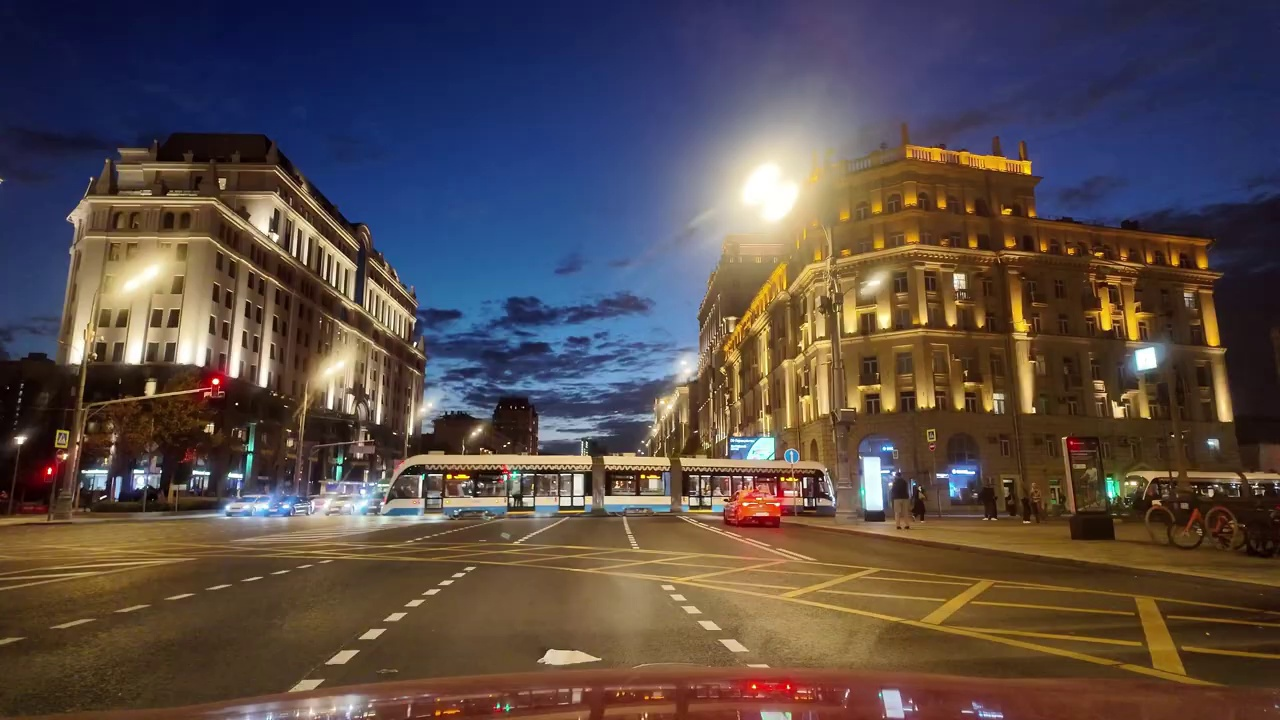acesa: (737, 154, 815, 225), (322, 353, 354, 387)
